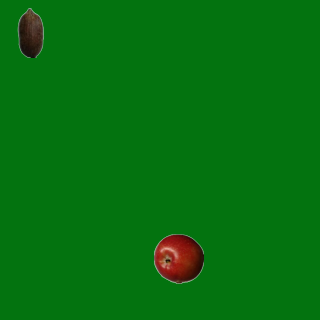Apple Braeburn: (153, 233, 203, 283)
Nut Pecan: (5, 7, 55, 57)
